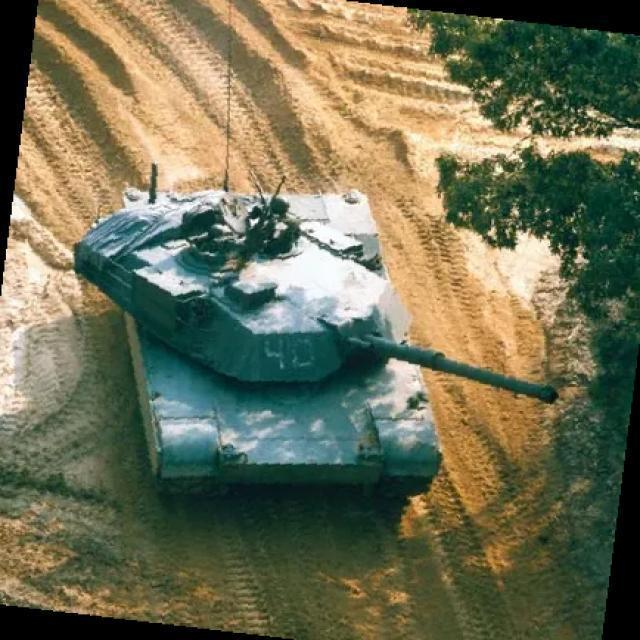Tanks: (71, 187, 559, 507)
